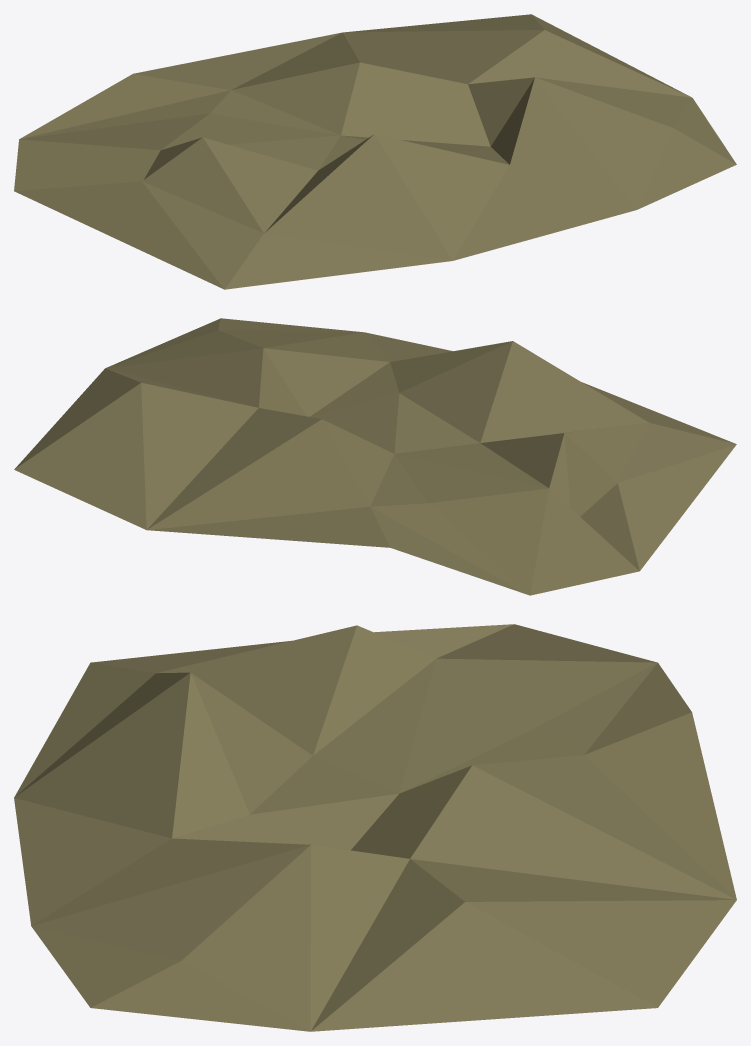
Rendered from grand.fbx.
3 views of the same model, one above another, from view 1: azimuth 30°, elevation 25°; view 2: azimuth 150°, elevation 25°; view 3: azimuth 270°, elevation 25° (orthographic). The views are drawn at different scales.
Parts seen in each view (by area): view 1: pPlane1; view 2: pPlane1; view 3: pPlane1.
Part boxes in pixels (<box>): pPlane1: <box>14,14,736,289</box>; pPlane1: <box>14,318,736,595</box>; pPlane1: <box>14,624,736,1031</box>.
Size of the model in its own units: 2.64 by 0.3485 by 1.98.
